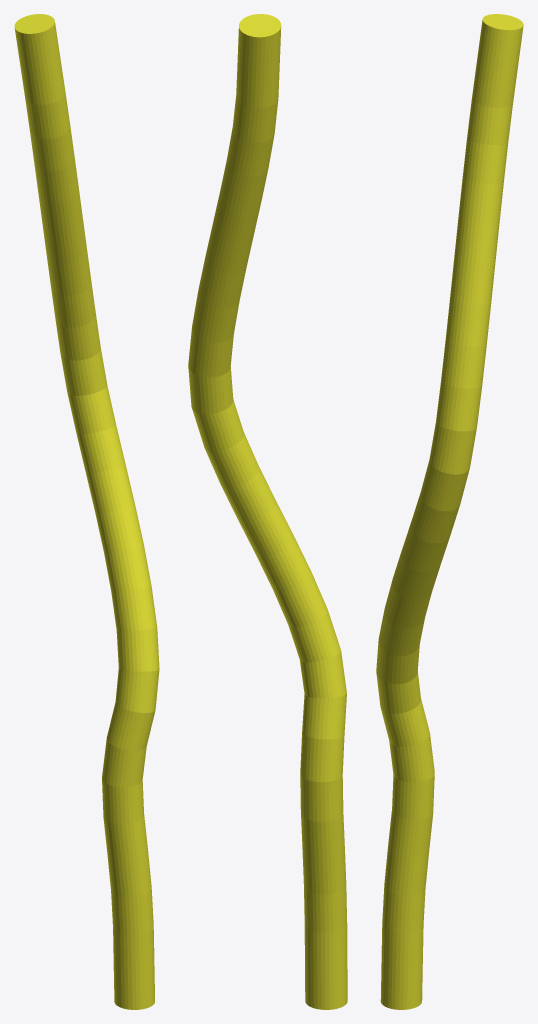
Rendered from Piliv1.1.glb.
3 views of the same model, side by side, from view 1: azimuth 90°, elevation 25°; view 2: azimuth 150°, elevation 25°; view 3: azimuth 270°, elevation 25° (orthographic). The views are drawn at different scales.
Visible parts, largest first — view 1: Cylinder; view 2: Cylinder; view 3: Cylinder.
Boxes of the visible parts, <box> form: Cylinder: <box>14,14,159,1009</box>; Cylinder: <box>188,14,347,1009</box>; Cylinder: <box>376,14,523,1009</box>.
Bounding box in the file's own units: 1.11 × 8.41 × 1.14.
